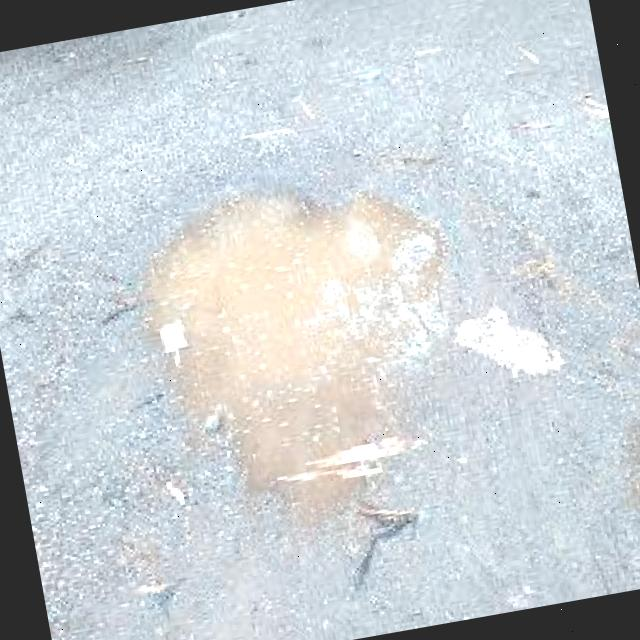waterlogging: (124, 174, 468, 534)
